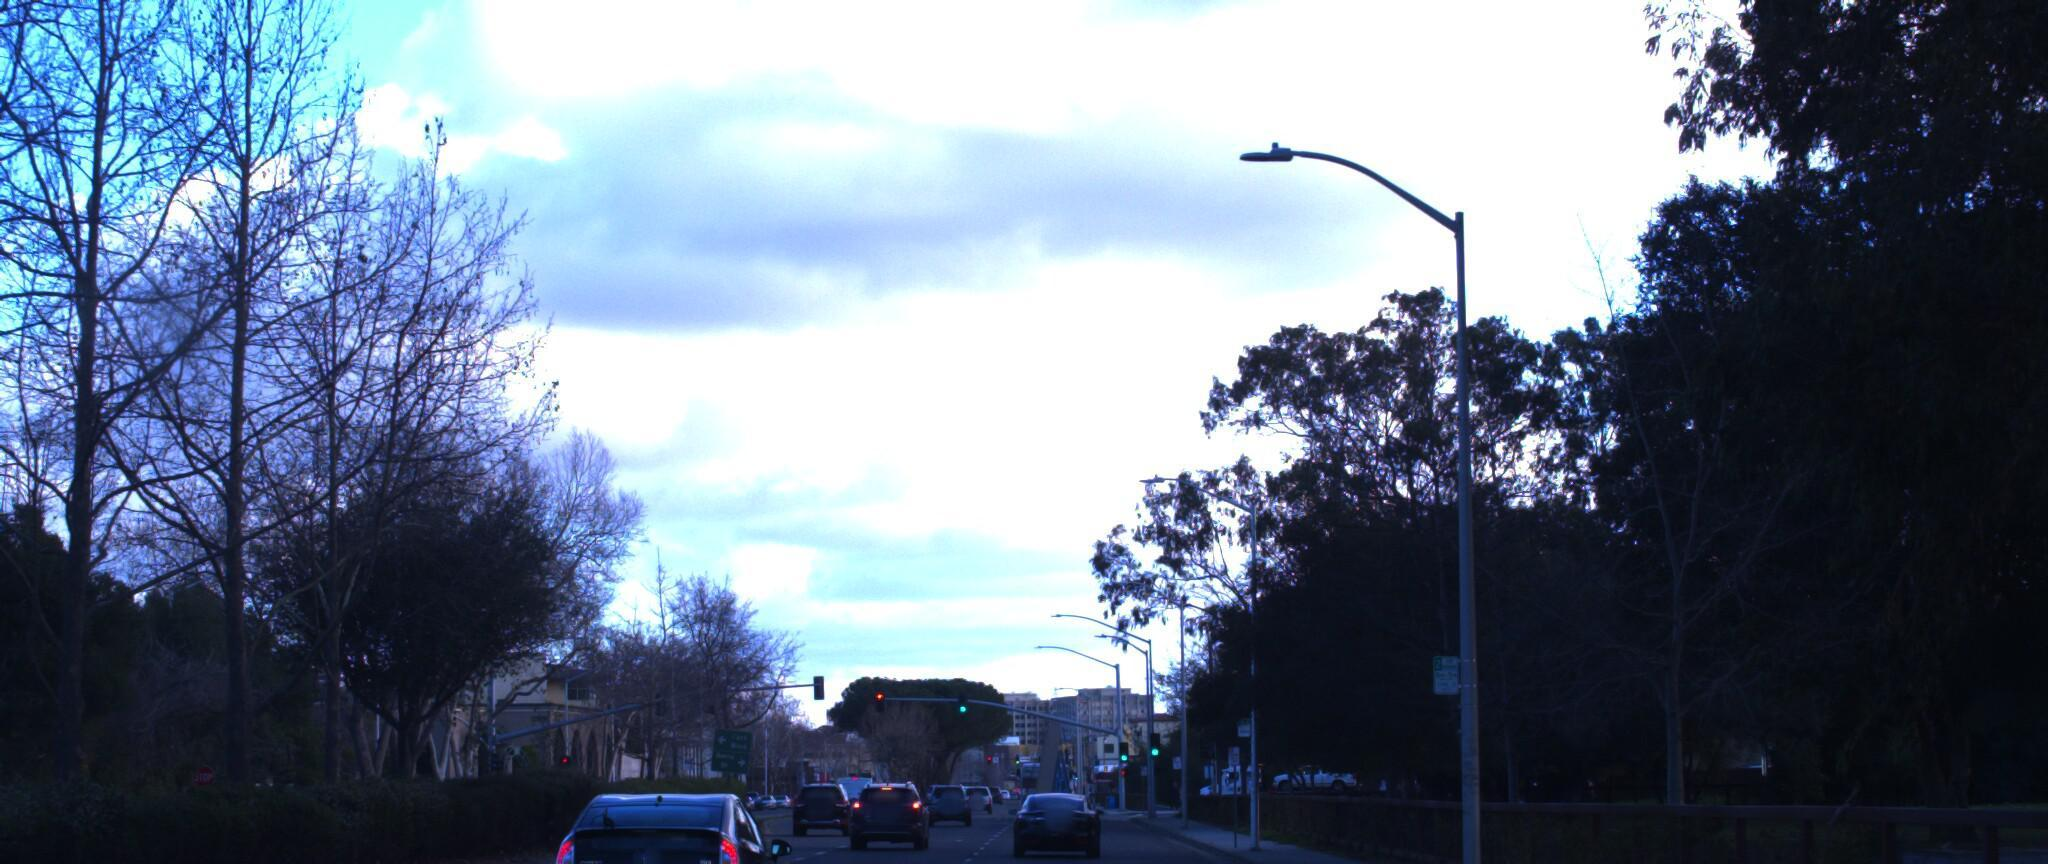car: (543, 762, 798, 864), (1014, 769, 1098, 838), (852, 757, 934, 827)
